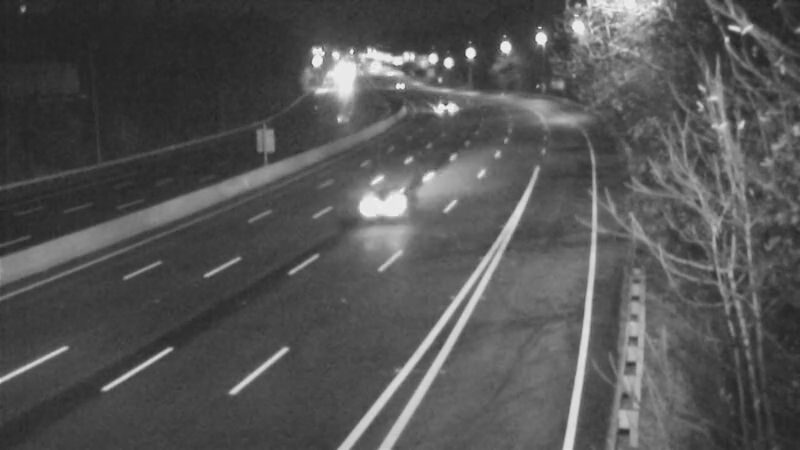vehicle: (342, 165, 422, 245), (373, 61, 423, 111), (414, 77, 464, 127)
